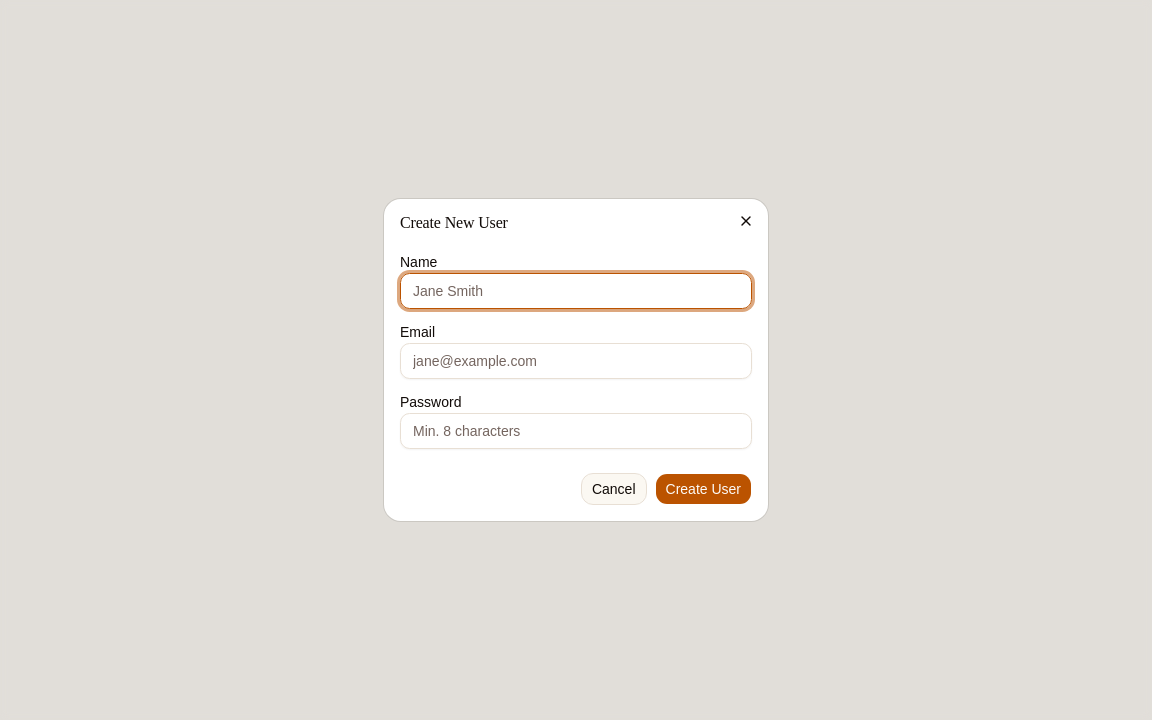
Test: CreateUserDialog › does not submit when validation fails
Click the button "Create User".
click(703, 489)  # box [654,473,752,505]
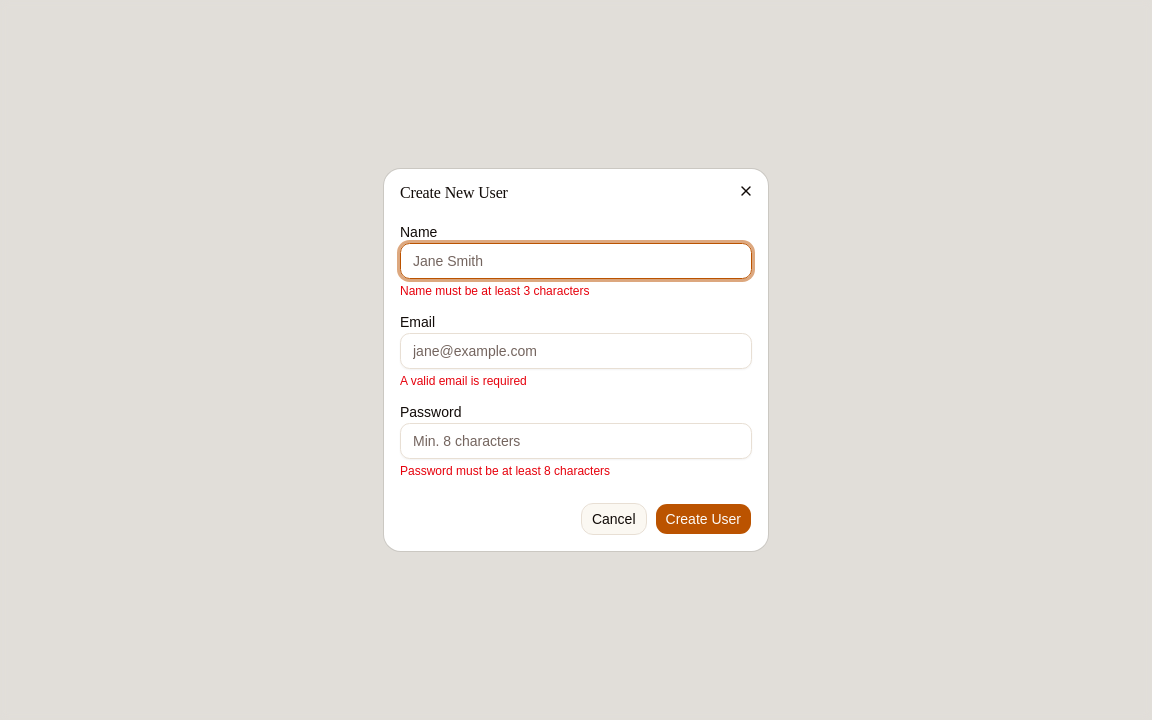
Result: the text "Name must be at least 3 characters" is shown at [400,284,589,298]
